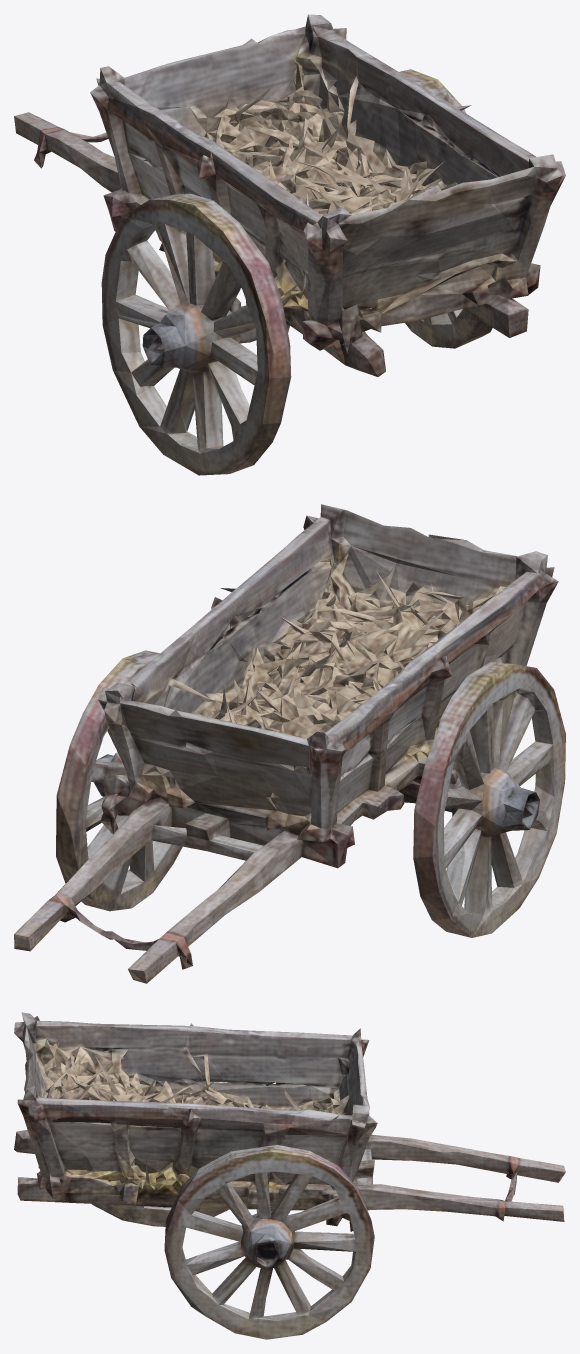
File: cart.obj
3 renders of one model, top to bottom at view 1: azimuth 30°, elevation 25°; view 2: azimuth 150°, elevation 25°; view 3: azimuth 270°, elevation 25°, orthographic. The views are drawn at different scales.
Parts seen in each view (by area): view 1: cart; view 2: cart; view 3: cart.
Boxes of the visible parts, x1,y1,x2,y2 form: cart: (14,14,565,475); cart: (14,504,565,983); cart: (14,1012,565,1339).
Size of the model in its own units: 2.07 by 1.6 by 3.5.
Materials: 1 (1 with a texture image).
